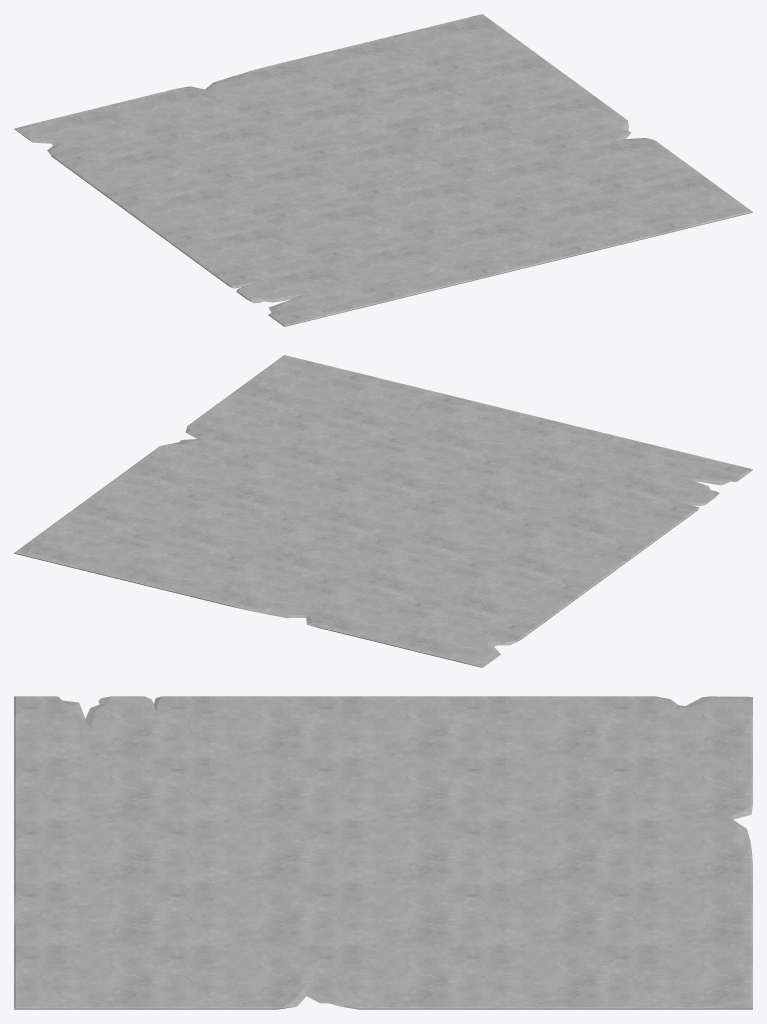
The model's file is Ground_panel_1.glb.
3 renders of one model, top to bottom at view 1: azimuth 30°, elevation 25°; view 2: azimuth 150°, elevation 25°; view 3: azimuth 270°, elevation 25°, orthographic. The views are drawn at different scales.
Visible parts, largest first — view 1: Ground panel 1; view 2: Ground panel 1; view 3: Ground panel 1.
Part boxes in pixels (x1=…): Ground panel 1: x1=14, y1=14, x2=752, y2=326; Ground panel 1: x1=14, y1=355, x2=752, y2=667; Ground panel 1: x1=14, y1=696, x2=752, y2=1009.
Bounding box in the file's own units: 80 × 0.2 × 80.
Materials: 1 (1 with a texture image).
